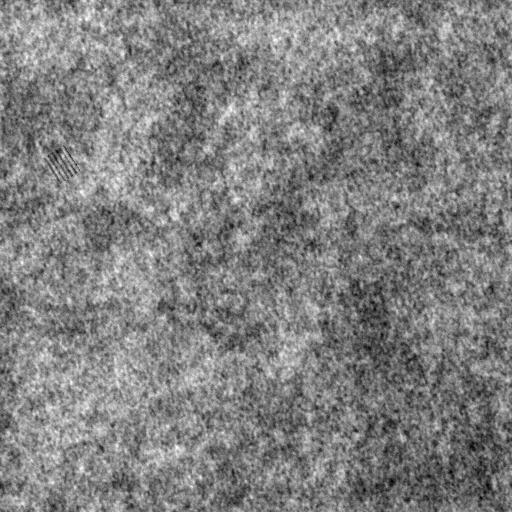DefectTypeB: (48, 144, 85, 181)
